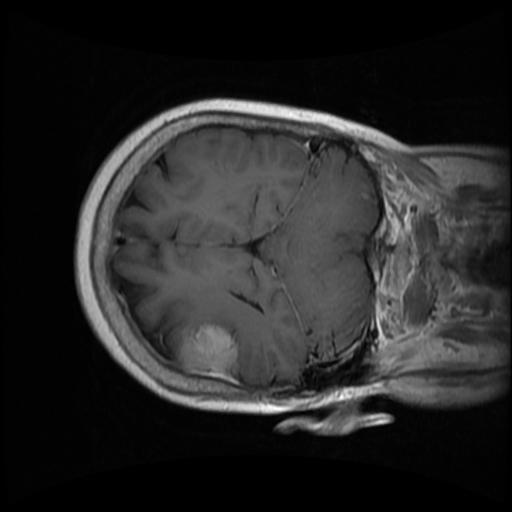meningioma: (170, 322, 239, 379)
